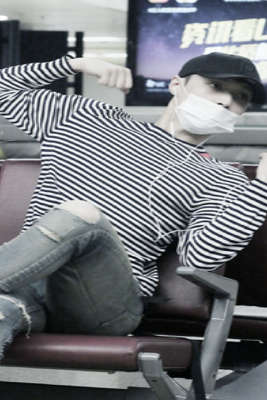mask_weared_incorrect: (179, 77, 251, 133)
